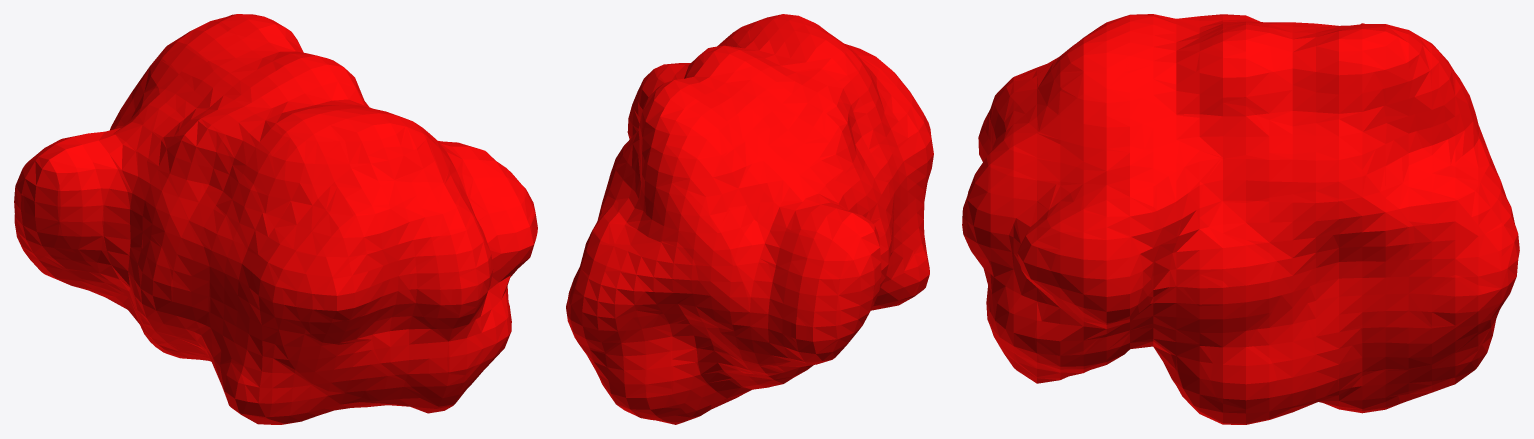
The model's file is queE_coarse.dae.
The picture shows the model from 3 angles, left to right: view 1: azimuth 30°, elevation 25°; view 2: azimuth 150°, elevation 25°; view 3: azimuth 270°, elevation 25°; orthographic projection. The views are drawn at different scales.
Parts seen in each view (by area): view 1: queE; view 2: queE; view 3: queE.
Boxes of the visible parts, x1,y1,x2,y2 form: queE: (14, 14, 537, 424); queE: (566, 14, 933, 424); queE: (962, 14, 1519, 424).
Bounding box in the file's own units: 49.63 × 42.25 × 56.59.
